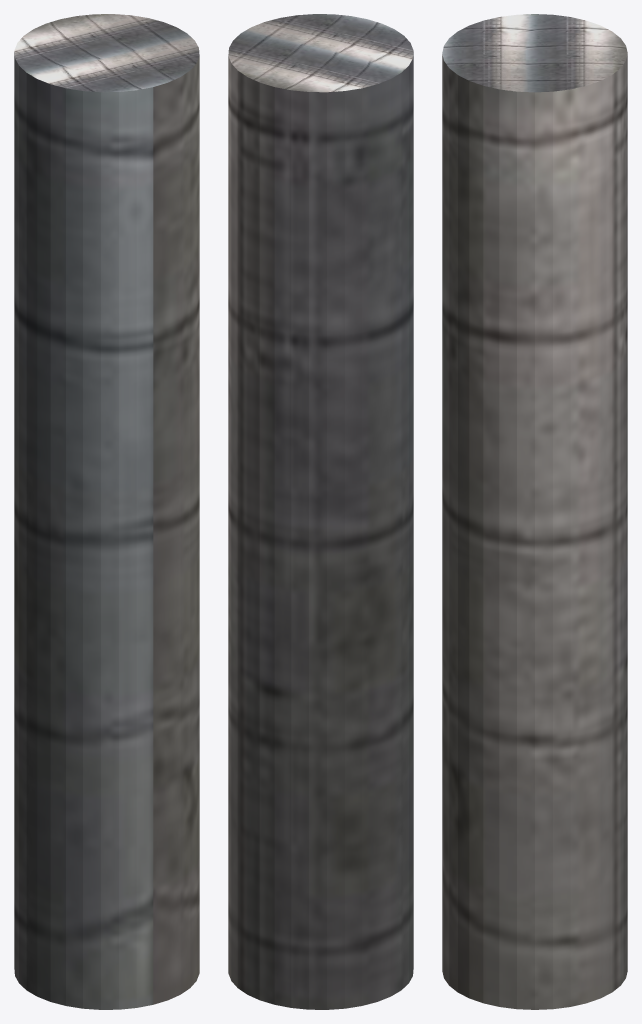
Rendered from tuyau.fbx.
3 renders of one model, left to right at view 1: azimuth 30°, elevation 25°; view 2: azimuth 150°, elevation 25°; view 3: azimuth 270°, elevation 25°, orthographic.
Parts seen in each view (by area): view 1: Cylinder; view 2: Cylinder; view 3: Cylinder.
Part boxes in pixels (bbox=[...]): Cylinder: bbox=[14, 14, 199, 1009]; Cylinder: bbox=[228, 14, 413, 1009]; Cylinder: bbox=[442, 14, 627, 1009].
Bounding box in the file's own units: 75.86 × 414 × 75.86.
